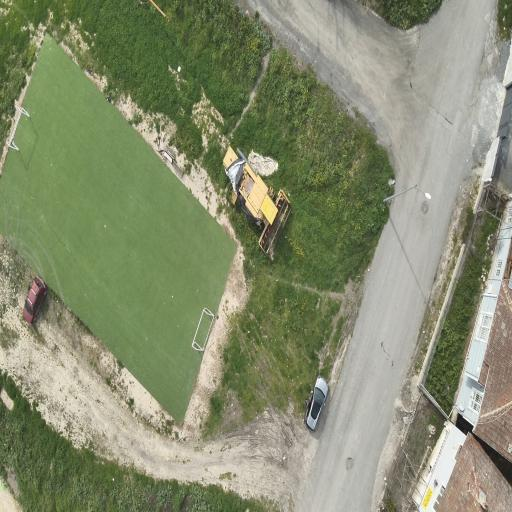car: (305, 376, 328, 430), (23, 276, 46, 323)
harvester: (224, 147, 290, 258)
